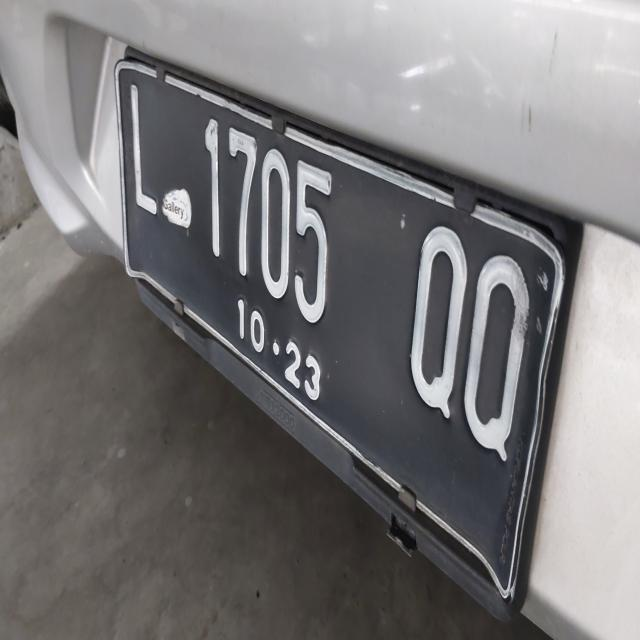0: (258, 127, 296, 316)
1: (196, 78, 234, 279)
5: (281, 138, 342, 336)
7: (222, 110, 262, 304)
L: (116, 69, 166, 231)
Q: (466, 227, 534, 490), (400, 199, 470, 448)
